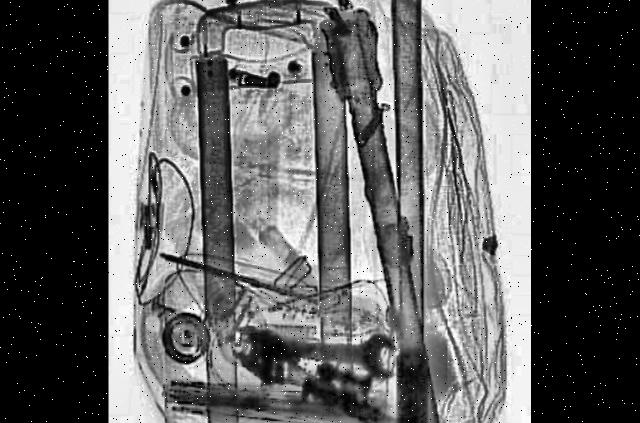Wrench: (297, 324, 398, 380)
